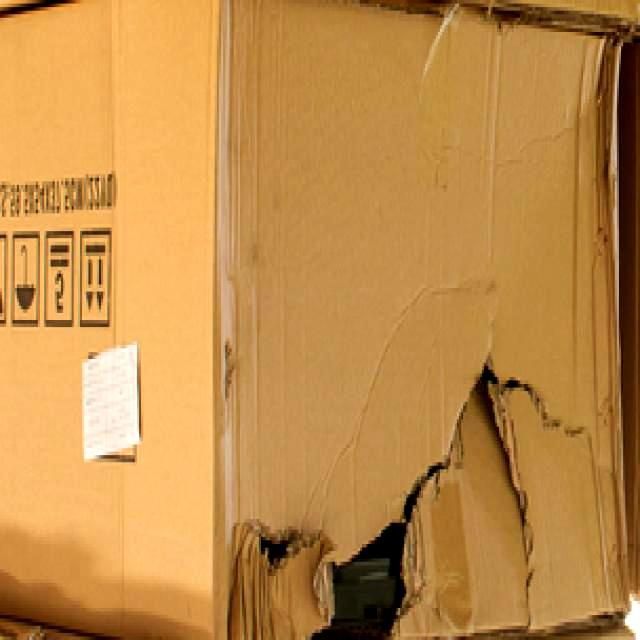Defect: (0, 4, 628, 630)
cut: (330, 524, 404, 633), (261, 532, 312, 568), (480, 362, 497, 383)
deform: (393, 380, 530, 639), (504, 391, 616, 626), (311, 523, 404, 639)
